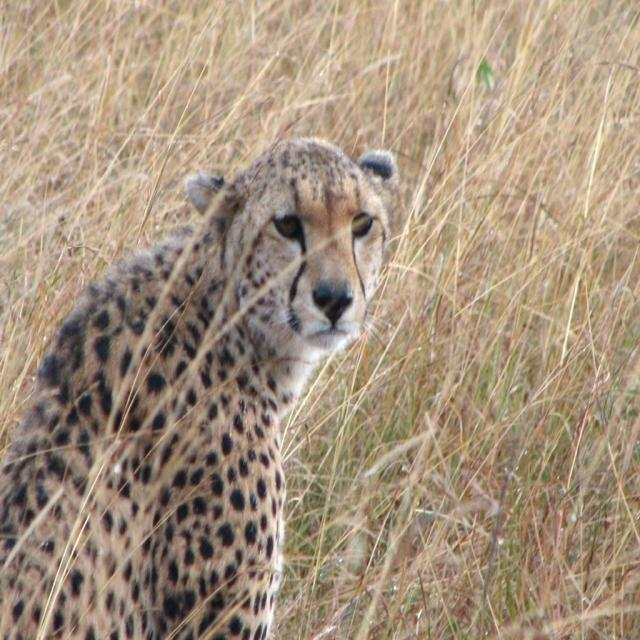Cheetah: (0, 136, 396, 640)
